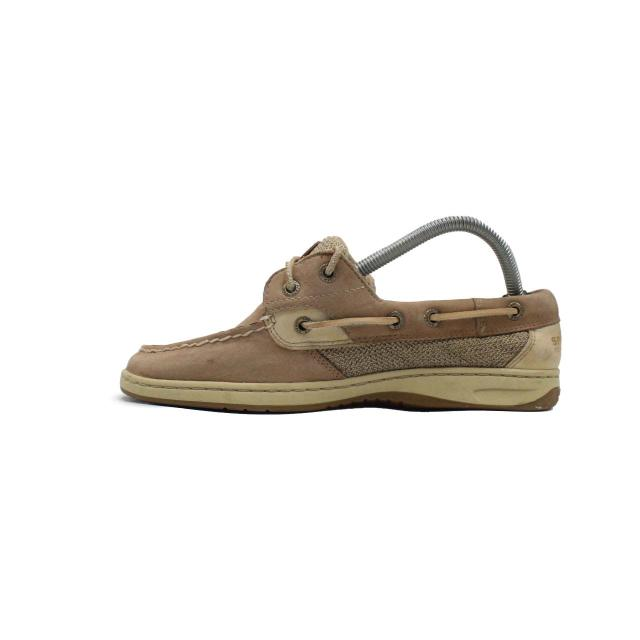heel: (501, 289, 560, 369)
midsole: (121, 366, 560, 415)
uppersole: (124, 237, 501, 383)
